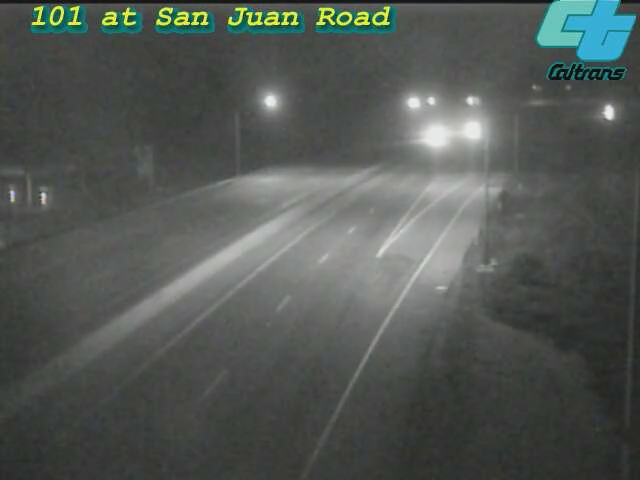vehicle: (411, 110, 461, 160), (445, 107, 495, 157), (582, 88, 632, 138)
